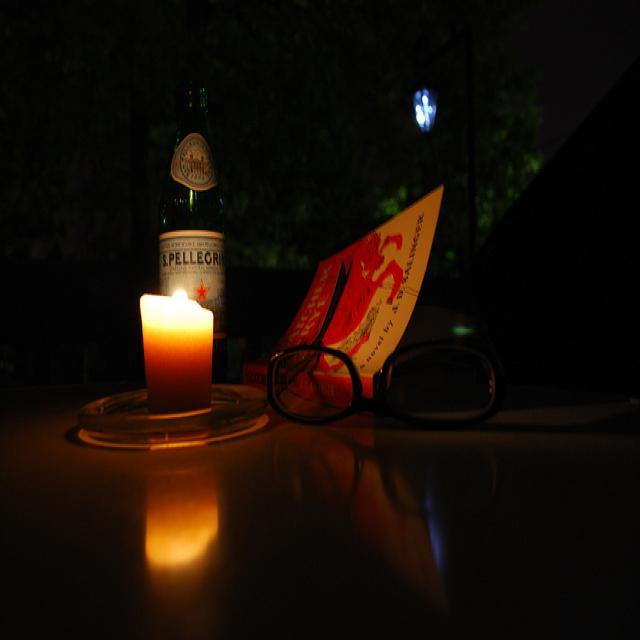Bottle: (152, 59, 238, 386)
Cup: (130, 290, 225, 405)
